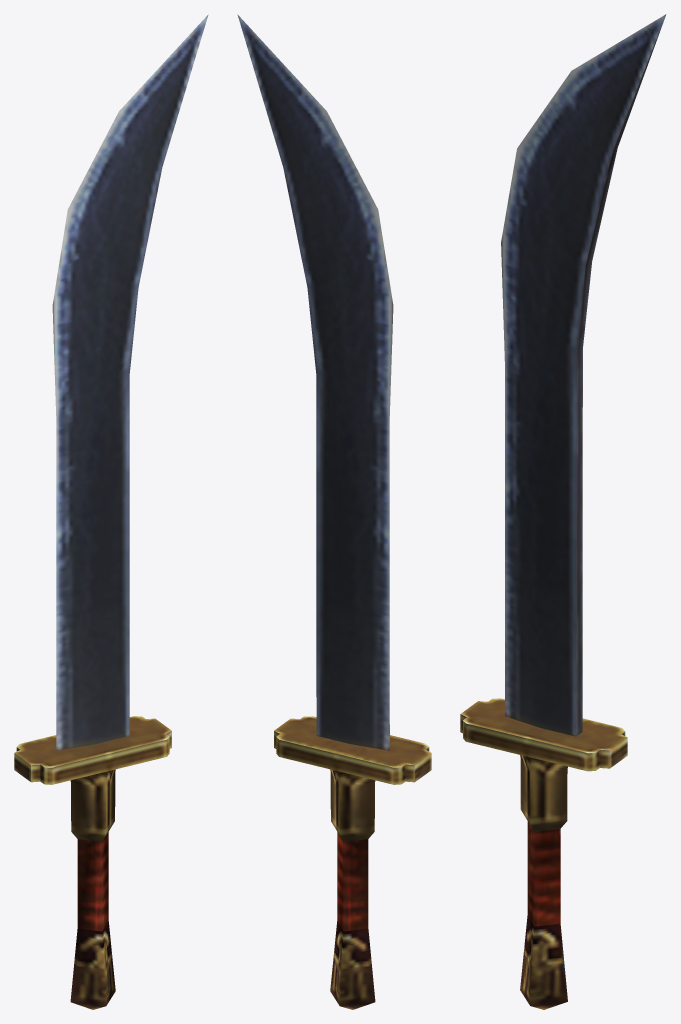
File: Sword14.FBX
The picture shows the model from 3 angles, left to right: view 1: azimuth 30°, elevation 25°; view 2: azimuth 150°, elevation 25°; view 3: azimuth 330°, elevation 25°; orthographic projection. The views are drawn at different scales.
Parts seen in each view (by area): view 1: Sword14; view 2: Sword14; view 3: Sword14.
Part boxes in pixels (x1,y1,x2,y2): Sword14: [14, 14, 208, 1009]; Sword14: [237, 14, 431, 1009]; Sword14: [460, 14, 666, 1009].
Size of the model in its own units: 21.06 by 105 by 6.38.
